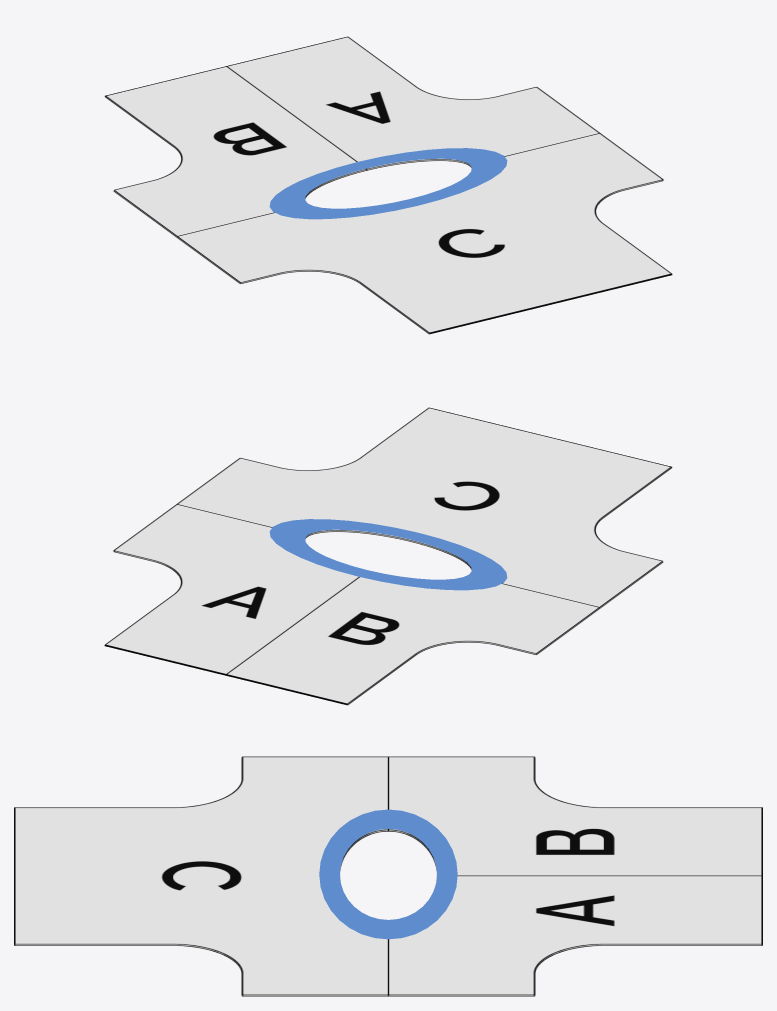
File: sewing_shape_key_test_2.glb
3 renders of one model, top to bottom at view 1: azimuth 30°, elevation 25°; view 2: azimuth 150°, elevation 25°; view 3: azimuth 270°, elevation 25°, orthographic. The views are drawn at different scales.
Visible parts, largest first — view 1: sewing step 6.001, foldy bit.scaled; view 2: sewing step 6.001, foldy bit.scaled; view 3: sewing step 6.001, foldy bit.scaled.
Boxes of the visible parts, x1=… form: sewing step 6.001: x1=104, y1=36, x2=672, y2=334; foldy bit.scaled: x1=269, y1=148, x2=507, y2=219; sewing step 6.001: x1=104, y1=407, x2=672, y2=705; foldy bit.scaled: x1=269, y1=519, x2=507, y2=590; sewing step 6.001: x1=14, y1=756, x2=762, y2=996; foldy bit.scaled: x1=319, y1=809, x2=457, y2=939.
Bounding box in the file's own units: 3.78 × 0.0202 × 5.
Materials: 2 (1 with a texture image).
